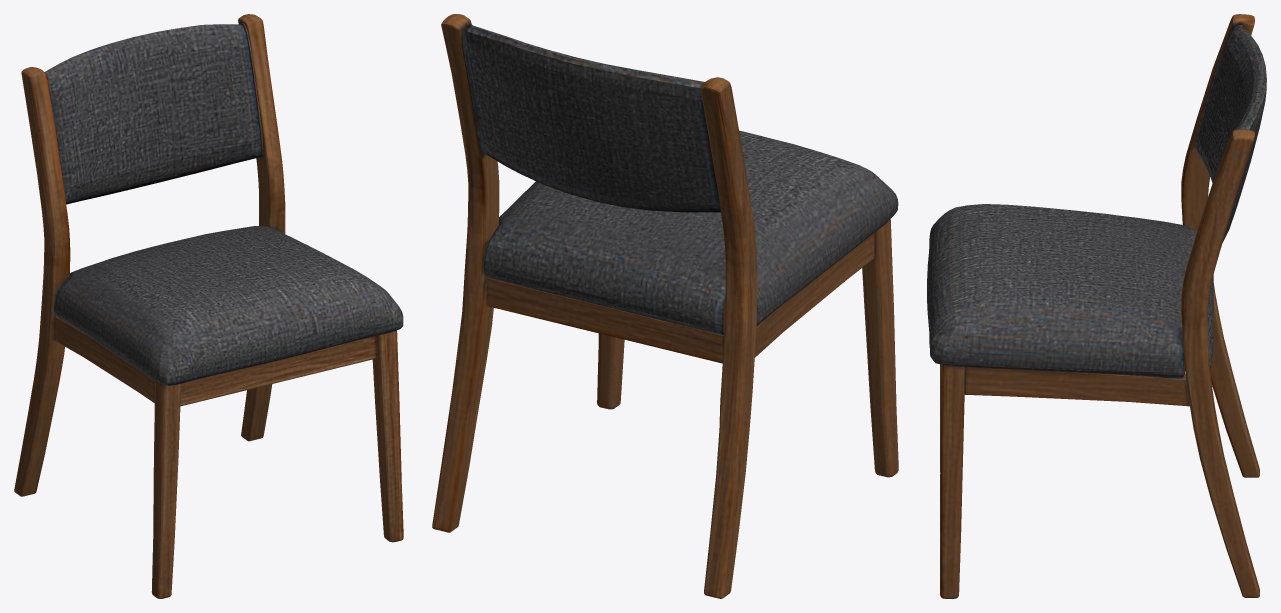
File: greychair.glb
3 renders of one model, left to right at view 1: azimuth 30°, elevation 25°; view 2: azimuth 150°, elevation 25°; view 3: azimuth 270°, elevation 25°, orthographic. The views are drawn at different scales.
Visible parts, largest first — view 1: tripo_5b24e997_f854_4ca2_8a01_a3a0a7ea6288; view 2: tripo_5b24e997_f854_4ca2_8a01_a3a0a7ea6288; view 3: tripo_5b24e997_f854_4ca2_8a01_a3a0a7ea6288.
Boxes of the visible parts, bbox=[...] form: tripo_5b24e997_f854_4ca2_8a01_a3a0a7ea6288: bbox=[14, 14, 403, 598]; tripo_5b24e997_f854_4ca2_8a01_a3a0a7ea6288: bbox=[432, 14, 898, 598]; tripo_5b24e997_f854_4ca2_8a01_a3a0a7ea6288: bbox=[927, 14, 1266, 598].
Size of the model in its own units: 0.6079 by 0.9995 by 0.6685.
Materials: 1 (1 with a texture image).
